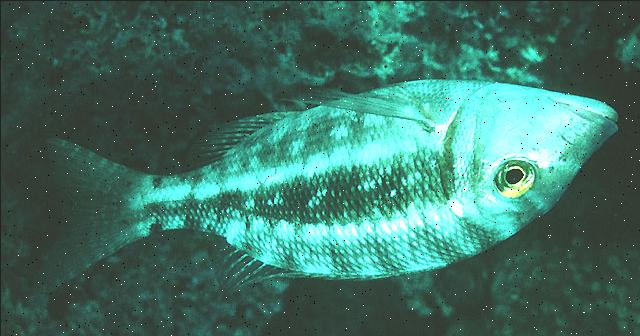Mulut: (547, 73, 631, 153)
Sirip Anal: (184, 95, 290, 175)
Sirip Dada: (275, 70, 445, 138)
Sirip Ekor: (28, 124, 162, 302)
Sirip Punggung: (188, 225, 362, 299)
